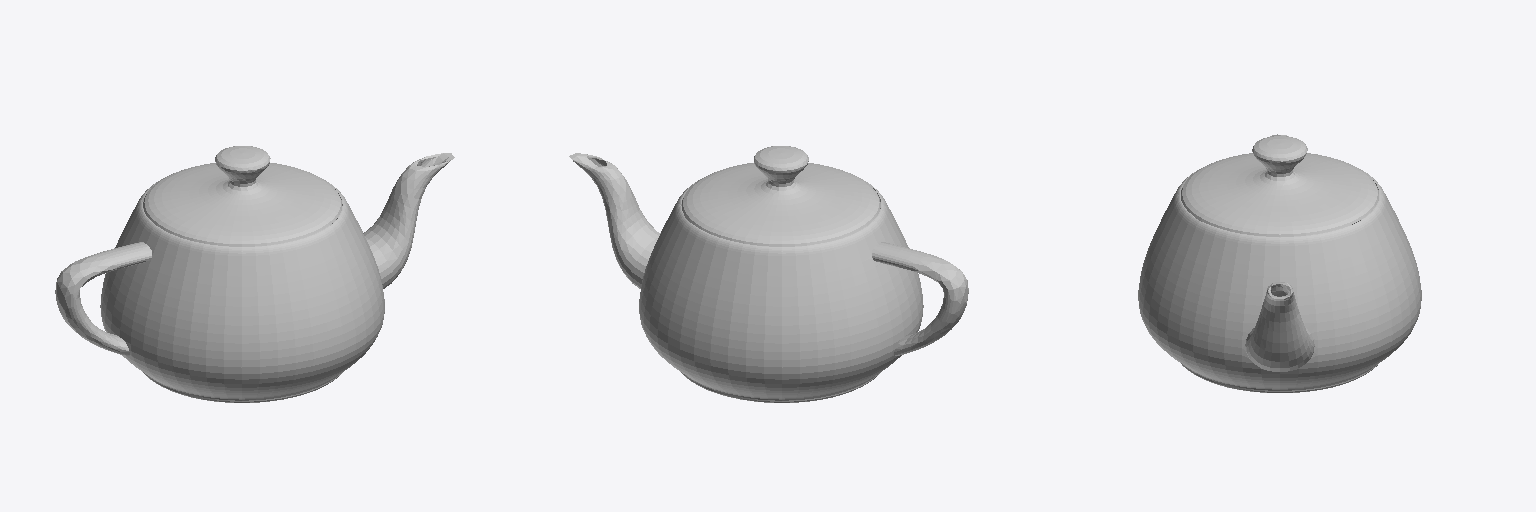
Rendered from teapot.obj.
3 renders of one model, left to right at view 1: azimuth 30°, elevation 25°; view 2: azimuth 150°, elevation 25°; view 3: azimuth 270°, elevation 25°, orthographic.
Parts seen in each view (by area): view 1: Object.1, Object.2; view 2: Object.1, Object.2; view 3: Object.1, Object.2.
Part boxes in pixels (left/top/right/bottom): Object.1: left=55, top=153, right=454, bottom=402; Object.2: left=143, top=146, right=341, bottom=246; Object.1: left=569, top=153, right=968, bottom=402; Object.2: left=682, top=146, right=880, bottom=246; Object.1: left=1138, top=134, right=1421, bottom=392; Object.2: left=1181, top=136, right=1378, bottom=236.
Bounding box in the file's own units: 154 × 79.01 × 95.86.